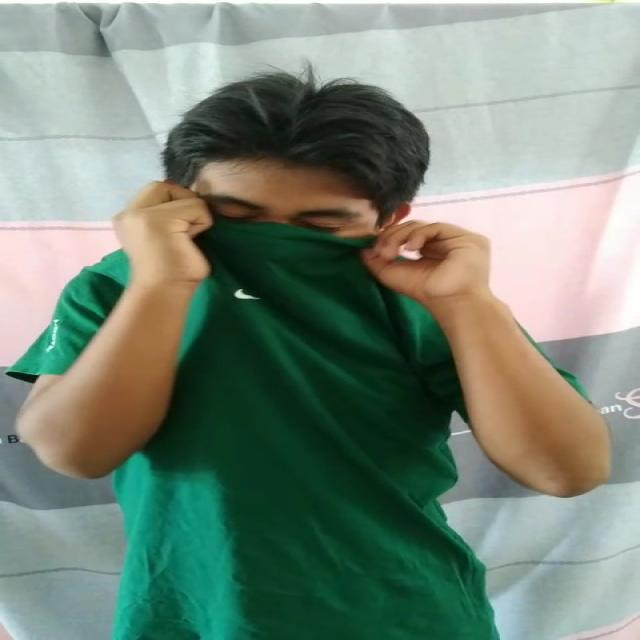8_ropa_rostro: (122, 210, 448, 310)
